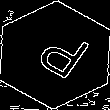P_SW: (22, 24, 88, 86)
